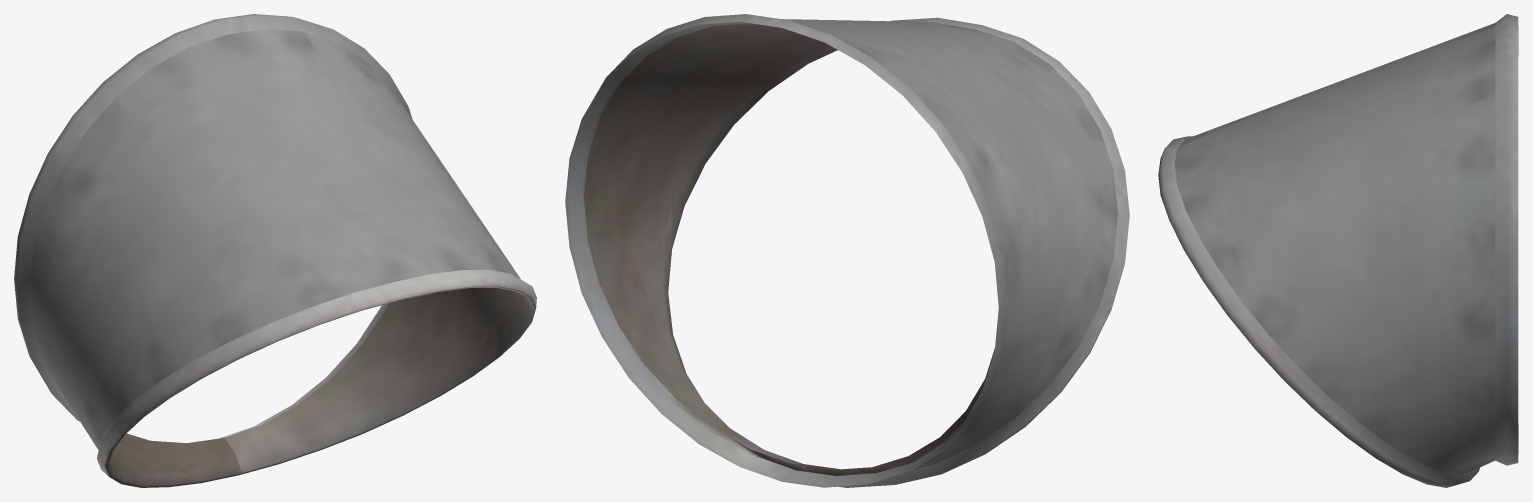
Rendered from circular_smooth_bend_half.gltf.
3 views of the same model, side by side, from view 1: azimuth 30°, elevation 25°; view 2: azimuth 150°, elevation 25°; view 3: azimuth 270°, elevation 25° (orthographic). The views are drawn at different scales.
Parts seen in each view (by area): view 1: circular_smooth_bend_half; view 2: circular_smooth_bend_half; view 3: circular_smooth_bend_half.
Boxes of the visible parts, x1,y1,x2,y2 form: circular_smooth_bend_half: (14, 14, 536, 487); circular_smooth_bend_half: (565, 14, 1129, 487); circular_smooth_bend_half: (1158, 14, 1518, 487).
Bounding box in the file's own units: 0.3713 × 0.3842 × 0.2959.
1 material, 1 textured.
